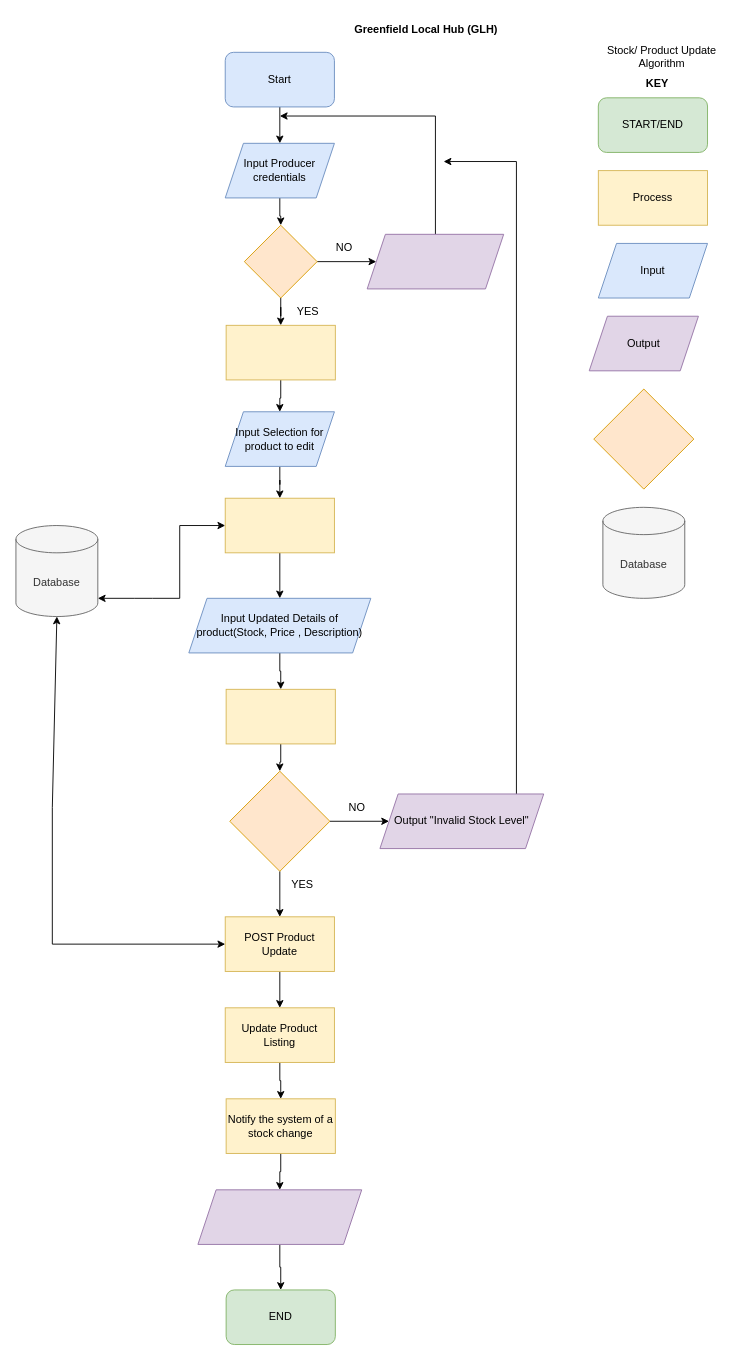
Some shapes in this 737 by 1360 pixel diagram are drawn without their labels. The centre of each missing label's shape, as x and y in pixels:
Decision: (x=643, y=438)
GET Product Data: (x=279, y=525)
Is Producer login valid?: (x=280, y=261)
Is stock greater than 0: (x=279, y=820)
Is the data valid?: (x=280, y=716)
Open Dashboard: (x=280, y=352)
Output Display "Update Successful": (x=279, y=1216)
Output"Invalid login": (x=435, y=261)
